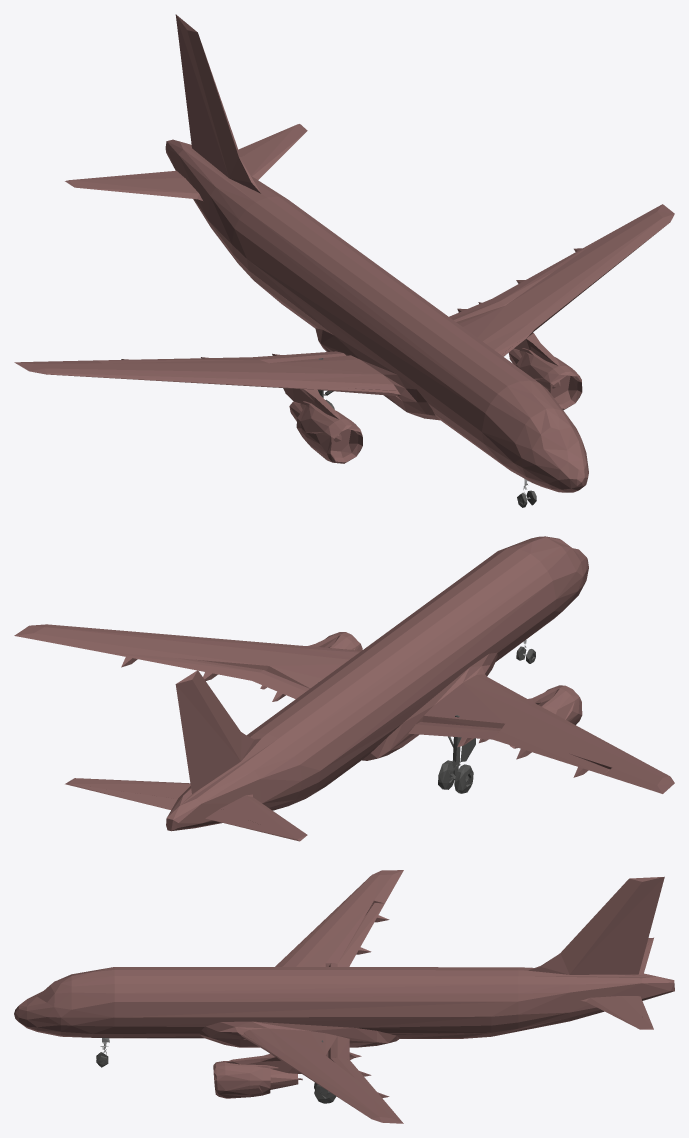
Rendered from a320.hull-v1.lod1.glb.
3 views of the same model, one above another, from view 1: azimuth 30°, elevation 25°; view 2: azimuth 150°, elevation 25°; view 3: azimuth 270°, elevation 25° (orthographic). The views are drawn at different scales.
Parts seen in each view (by area): view 1: Object_4; view 2: Object_4; view 3: Object_4.
Boxes of the visible parts, <box> form: Object_4: <box>14,14,674,507</box>; Object_4: <box>14,536,674,841</box>; Object_4: <box>14,870,674,1123</box>.
Size of the model in its own units: 34.15 by 12.31 by 37.6.
